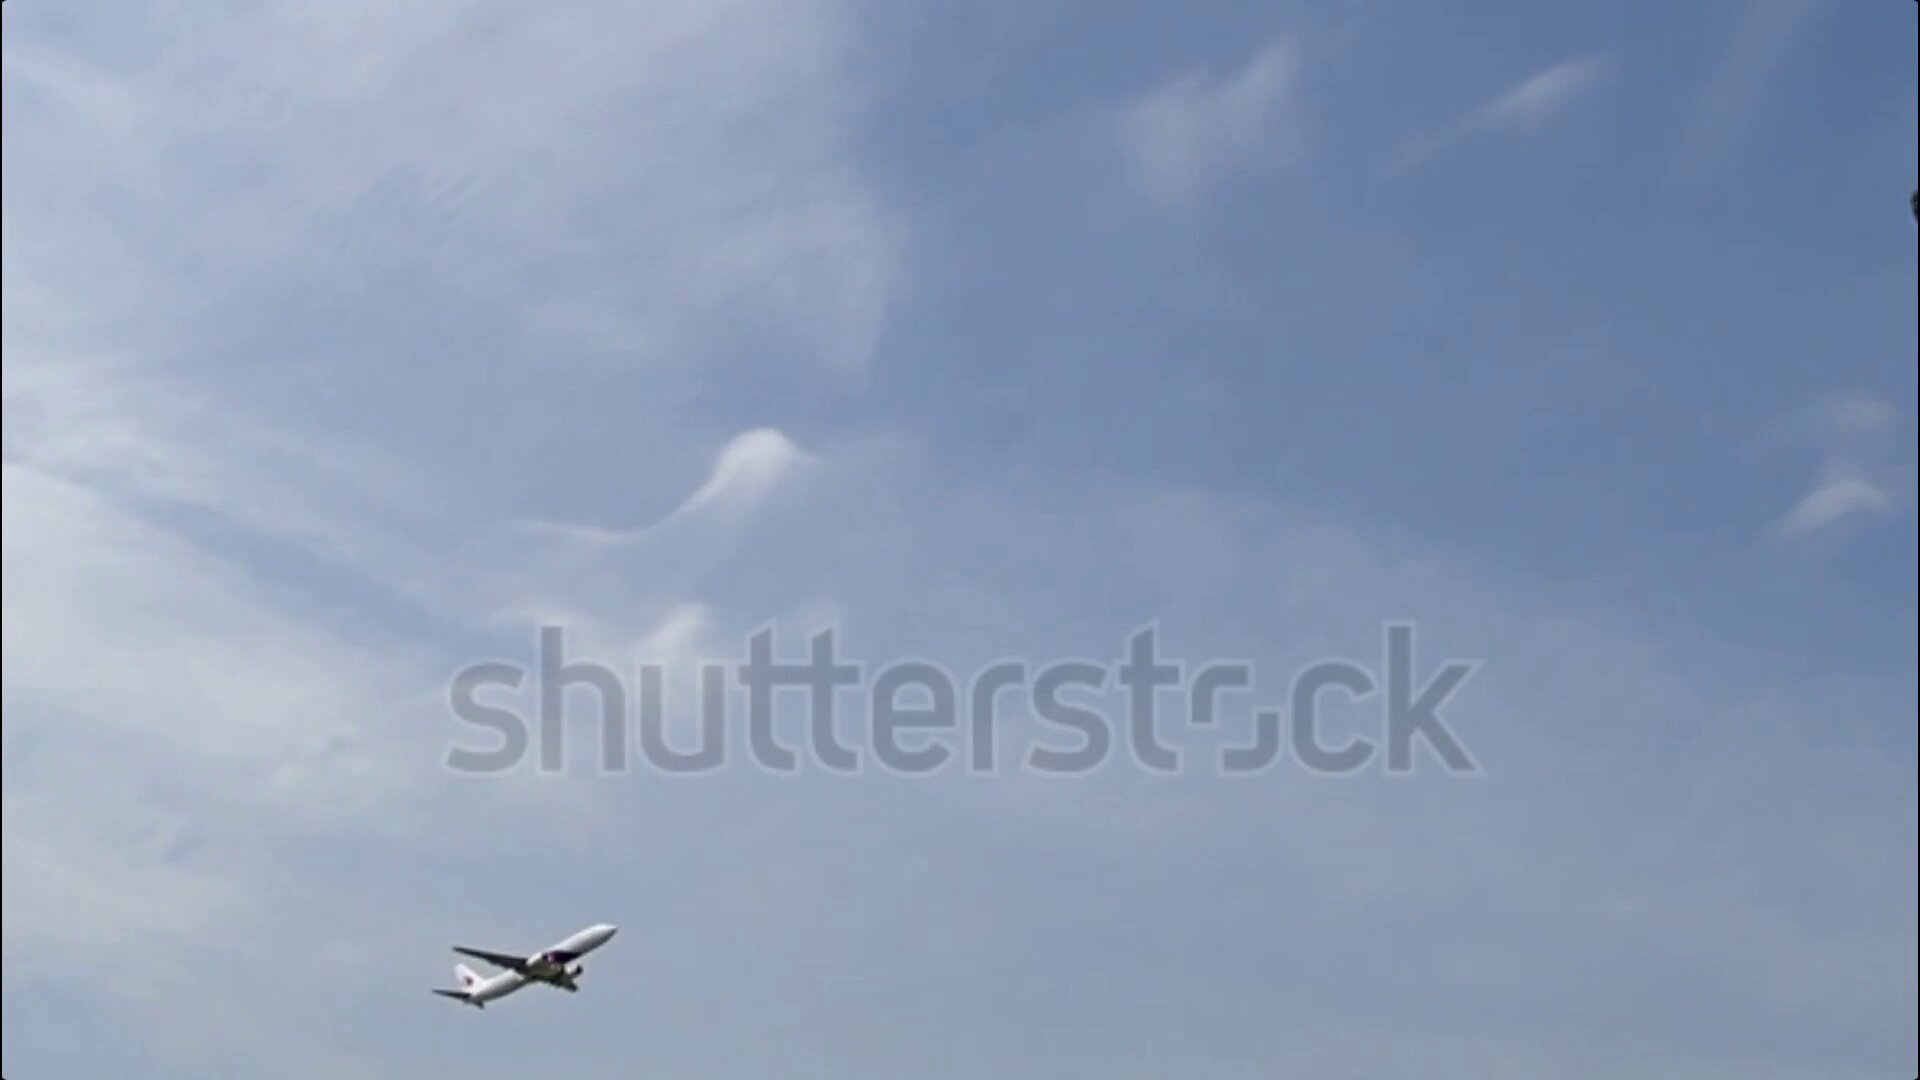airplane: (430, 920, 620, 1011)
